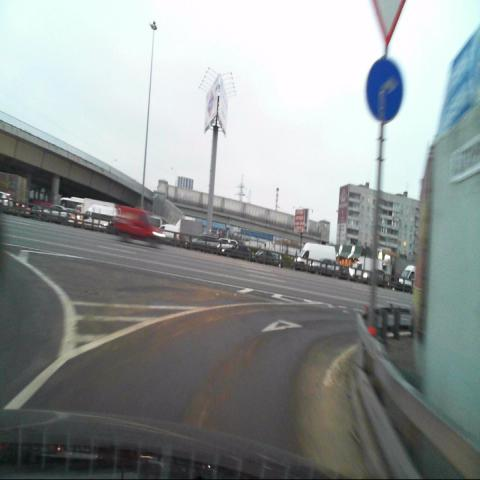4_1_2: (367, 57, 402, 121)
